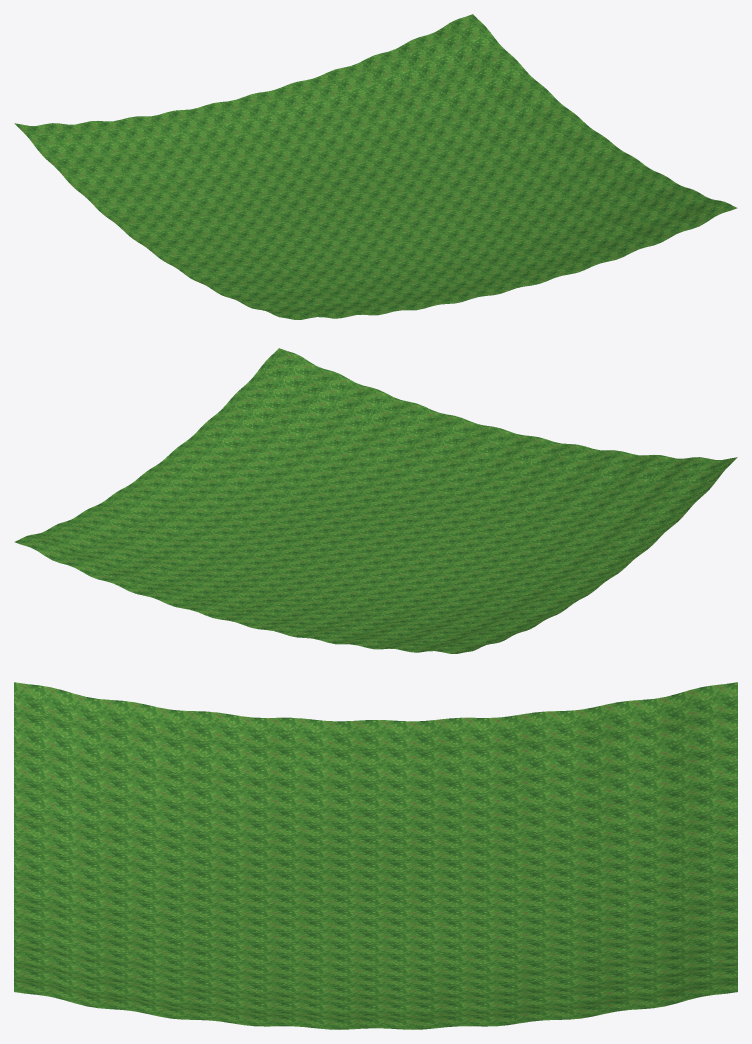
File: ENV_Forest_Ground.fbx
3 renders of one model, top to bottom at view 1: azimuth 30°, elevation 25°; view 2: azimuth 150°, elevation 25°; view 3: azimuth 270°, elevation 25°, orthographic. The views are drawn at different scales.
Visible parts, largest first — view 1: ENV_Forest_Ground; view 2: ENV_Forest_Ground; view 3: ENV_Forest_Ground.
Boxes of the visible parts, x1=… form: ENV_Forest_Ground: x1=14, y1=14, x2=737, y2=319; ENV_Forest_Ground: x1=14, y1=348, x2=737, y2=653; ENV_Forest_Ground: x1=14, y1=682, x2=737, y2=1029.
Bounding box in the file's own units: 80 × 7.87 × 80.
1 material, 1 textured.
